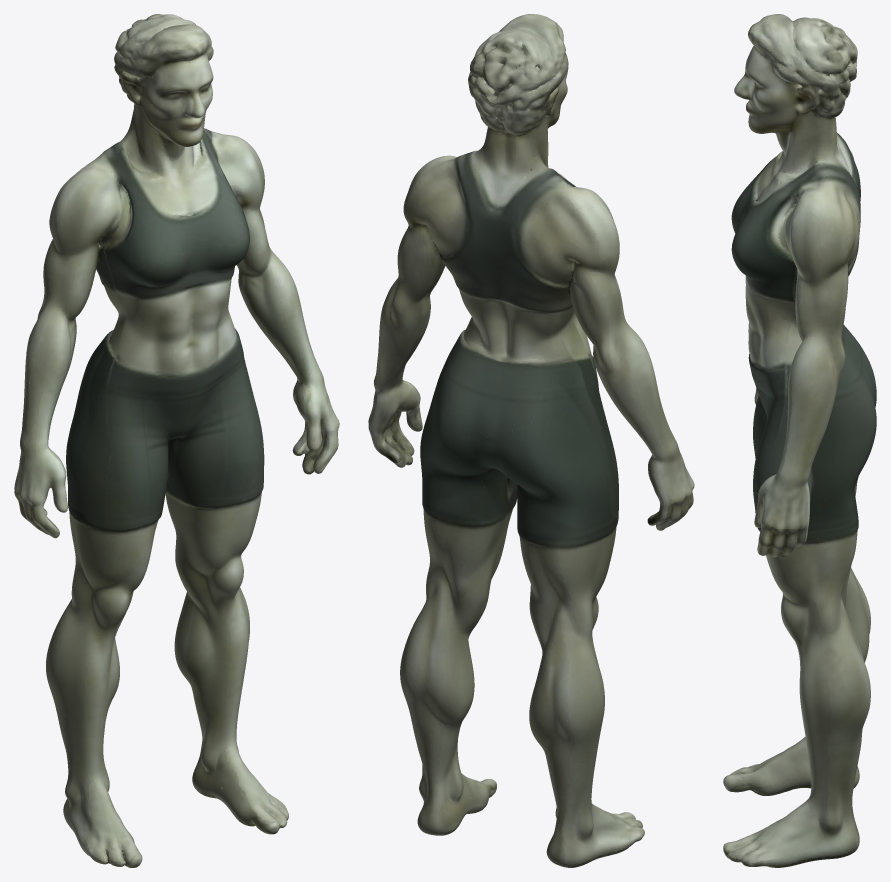
Rendered from adult-female-v3-CLdgKc2_.glb.
3 views of the same model, side by side, from view 1: azimuth 30°, elevation 25°; view 2: azimuth 150°, elevation 25°; view 3: azimuth 270°, elevation 25° (orthographic).
Visible parts, largest first — view 1: TeachingBody; view 2: TeachingBody; view 3: TeachingBody.
Part boxes in pixels (bbox=[...]): TeachingBody: bbox=[14, 14, 339, 867]; TeachingBody: bbox=[368, 14, 694, 867]; TeachingBody: bbox=[723, 14, 876, 867].
Bounding box in the file's own units: 0.6925 × 1.7 × 0.2931.
Materials: 1 (1 with a texture image).
